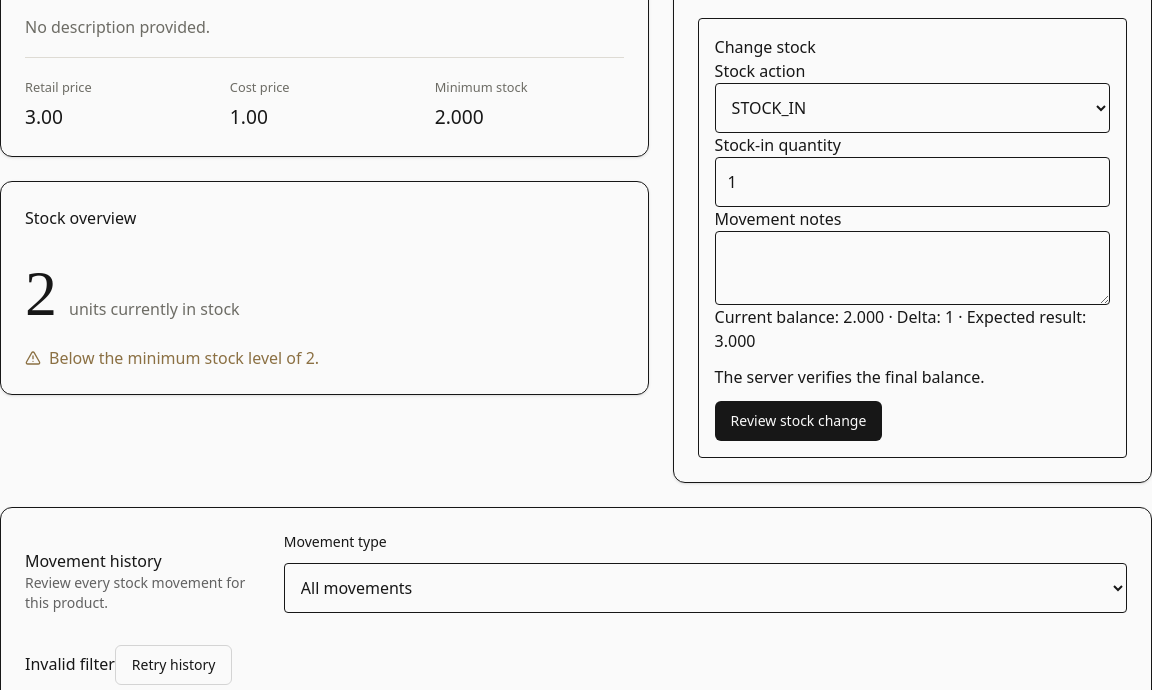
Test case: ledger loading error and retry
The width and height of the screenshot is (1152, 690).
(page scrolled)
Check: the text "Invalid filter" is shown, box [25,653,115,675]
Click the button "Retry history" at point(174, 665), box [115,645,232,685]
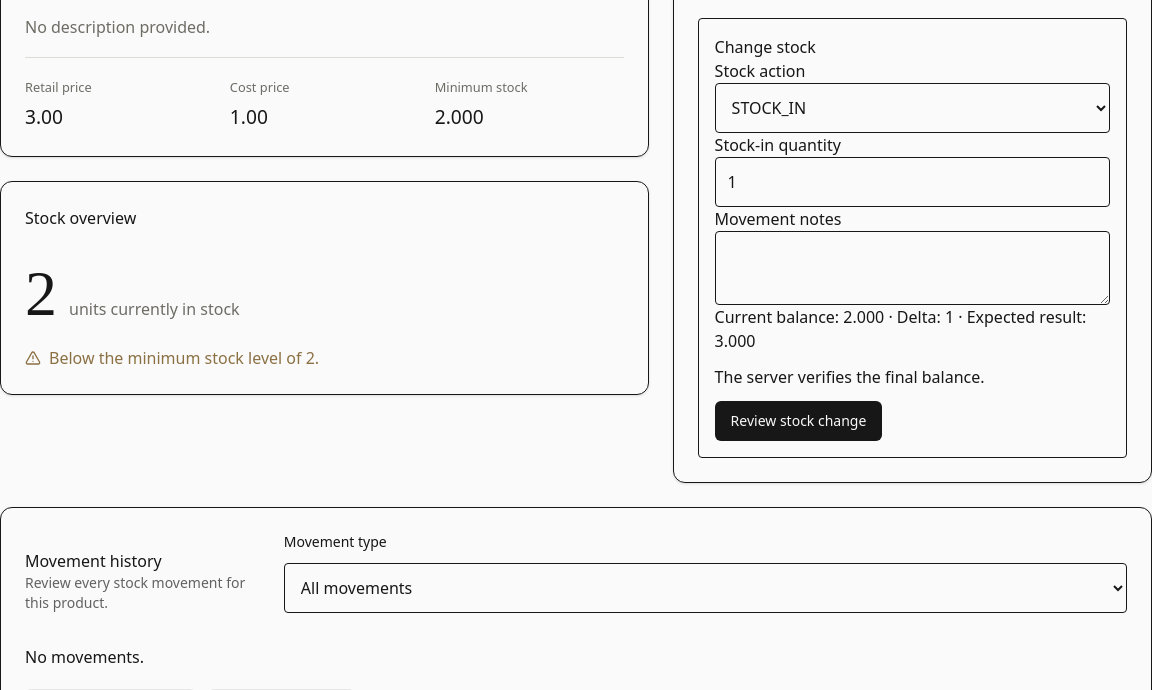
Check: the text "No movements." is shown, box [25,646,144,668]
